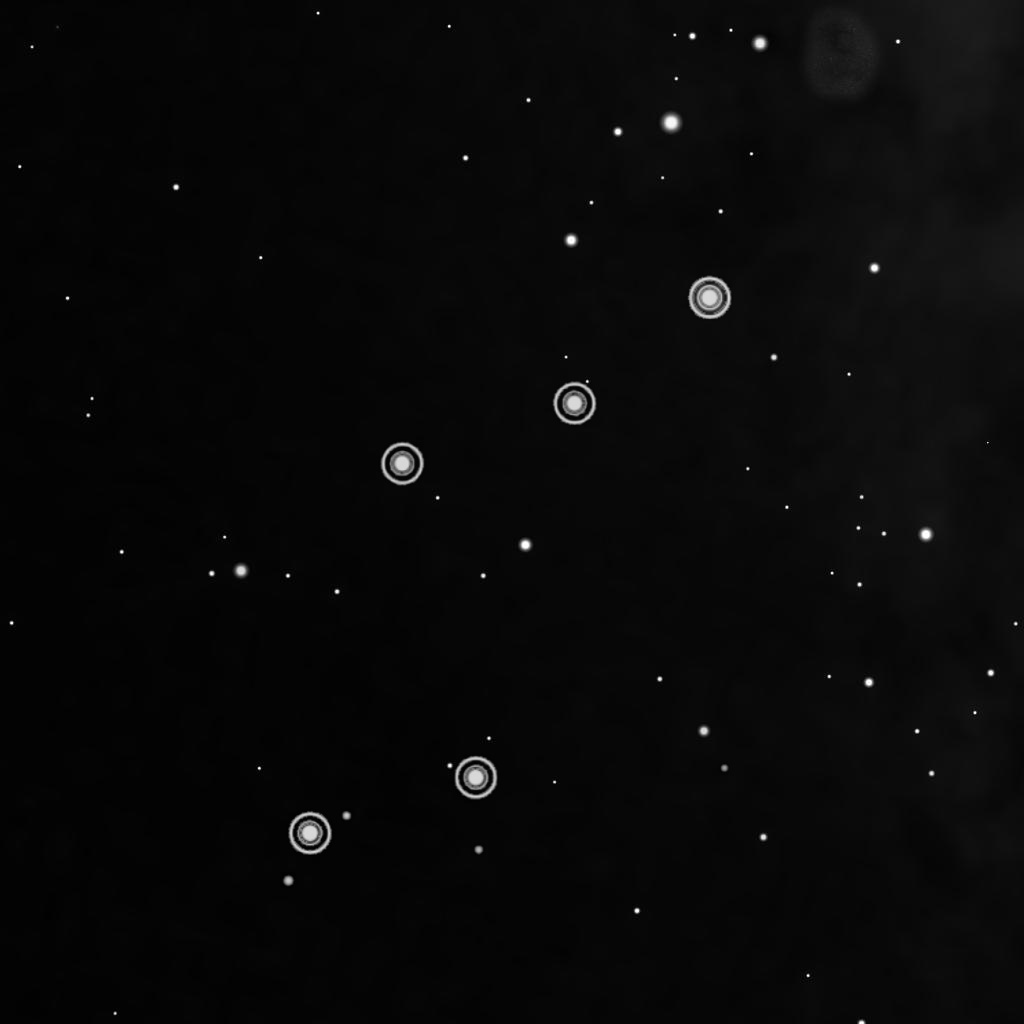lyra: (281, 262, 741, 864)
